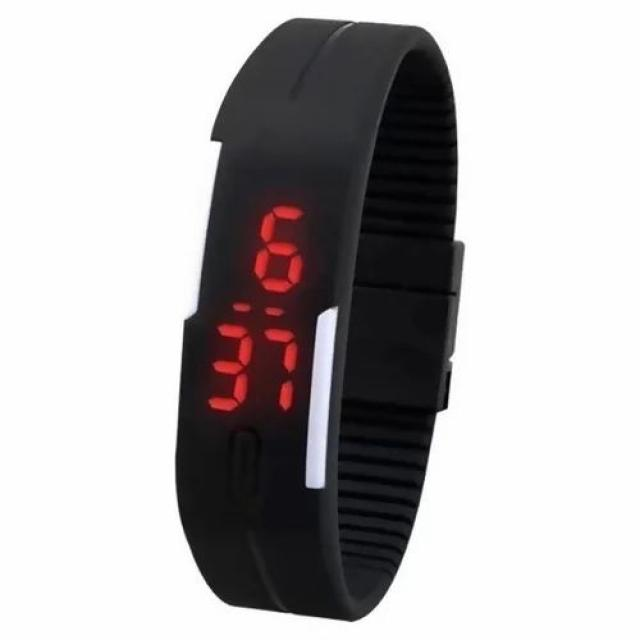watch: (187, 143, 357, 488)
